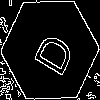D: (25, 25, 76, 79)
